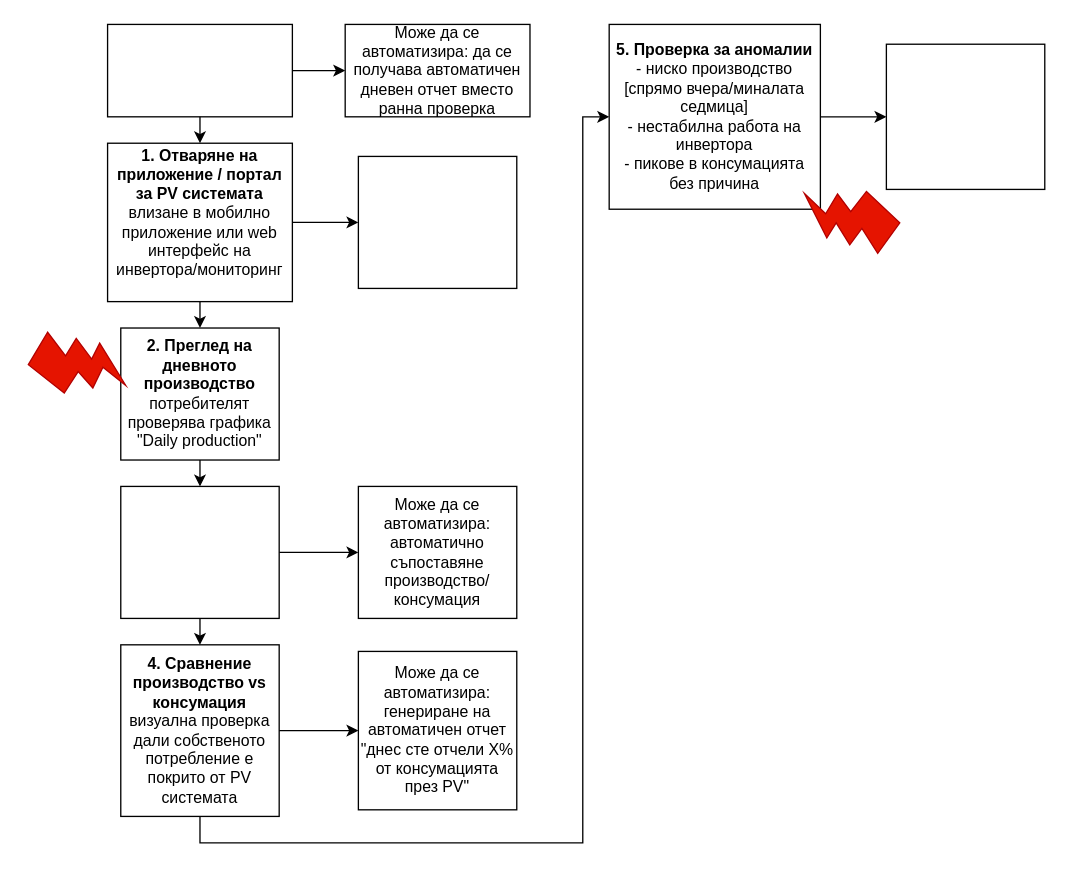
The diagram is 1068 pixels wide and 876 high, and some of its shapes have lost their labels. The box of each missing label's shape, as (x1, y1, x2, y2) in pixels:
3. Преглед на дневната консумация Потребителят отваря менюто за "Consumption": (119, 485, 279, 618)
Може да се автоматизира: автоматично съпоставяне при отклонение от нормата: (357, 155, 517, 288)
Може да се автоматизира: планиране на поддръжка: (885, 43, 1045, 189)
Тригер Потребителят иска да провери дали системата е работила нормално през деня: (106, 23, 292, 117)
